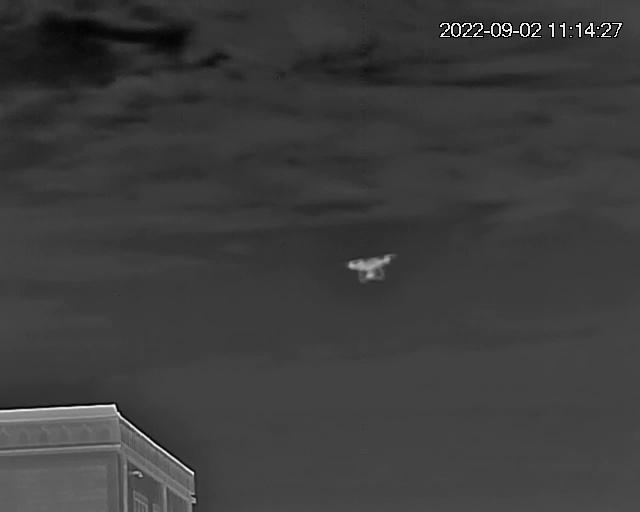DJI-Phantom: (346, 252, 399, 286)
